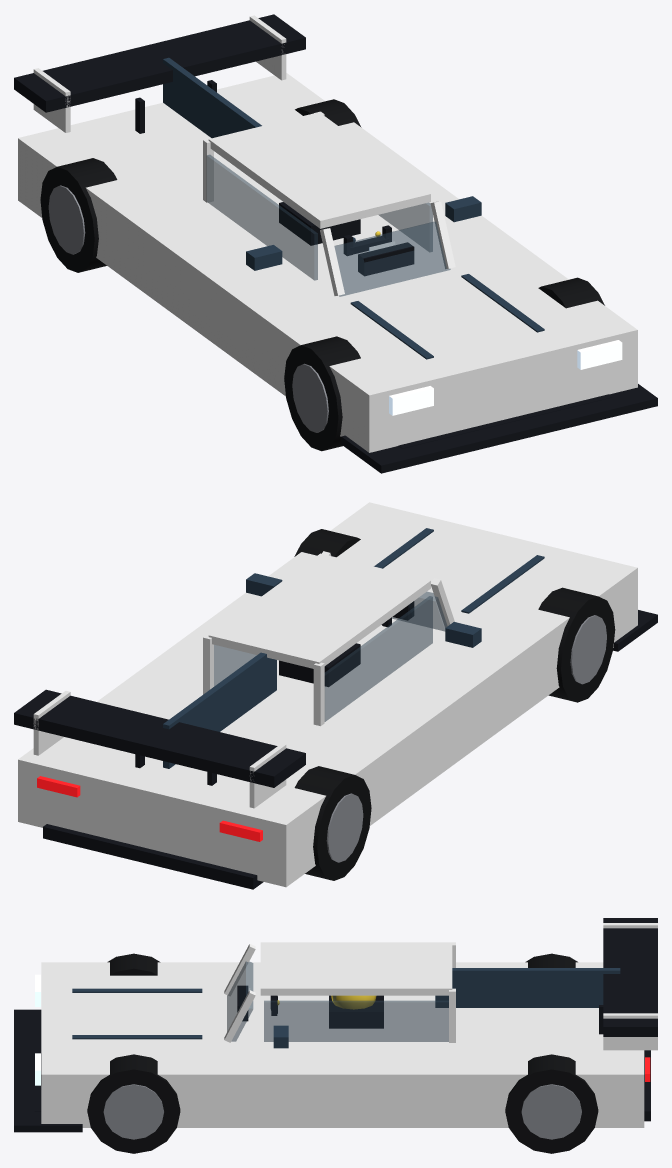
Rendered from hypercar.glb.
The picture shows the model from 3 angles, top to bottom: view 1: azimuth 30°, elevation 25°; view 2: azimuth 150°, elevation 25°; view 3: azimuth 270°, elevation 25°; orthographic projection. The views are drawn at different scales.
Parts seen in each view (by area): view 1: body, roof, rear-wing, splitter, side-window--1, windscreen, tyre--1--1, tyre--1-1, shark-fin, rim--1--1, rim--1-1, side-window-1 (+16 smaller); view 2: body, roof, rear-wing, side-window--1, shark-fin, tyre--1-1, tyre--1--1, floor, rim--1--1, rim--1-1, seat, tyre-1-1 (+13 smaller); view 3: body, roof, side-window-1, shark-fin, rear-wing, tyre-1-1, tyre-1--1, splitter, rim-1--1, rim-1-1, seat, windscreen (+11 smaller).
Part boxes in pixels (x1,y1,x2,y2): body: (18,73,637,452); roof: (208,112,430,228); rear-wing: (14,14,305,112); splitter: (341,384,657,473); side-window--1: (206,154,317,280); windscreen: (334,221,450,296); tyre--1--1: (40,158,117,272); tyre--1-1: (284,336,360,451); shark-fin: (163,57,261,138); rim--1--1: (48,185,85,254); rim--1-1: (292,363,328,432); side-window-1: (379,202,432,251); body: (18,502,637,887); roof: (208,553,430,668); rear-wing: (14,689,305,787); side-window--1: (324,596,432,721); shark-fin: (163,652,276,768); tyre--1-1: (538,587,615,702); tyre--1--1: (294,766,371,880); floor: (43,824,263,889); rim--1--1: (326,793,363,862); rim--1-1: (570,615,606,684); seat: (279,643,360,686); tyre-1-1: (294,529,360,557); body: (41,962,644,1127); roof: (260,942,452,995); side-window-1: (264,1000,448,1041); shark-fin: (435,968,620,1007); rear-wing: (603,918,657,1036); tyre-1-1: (87,1054,180,1153); tyre-1--1: (505,1054,598,1153); splitter: (14,1009,82,1132); rim-1--1: (521,1084,581,1139); rim-1-1: (103,1084,163,1139); seat: (329,995,383,1028); windscreen: (227,961,253,1041).
Bounding box in the file's own units: 2.02 × 1.05 × 4.7.
